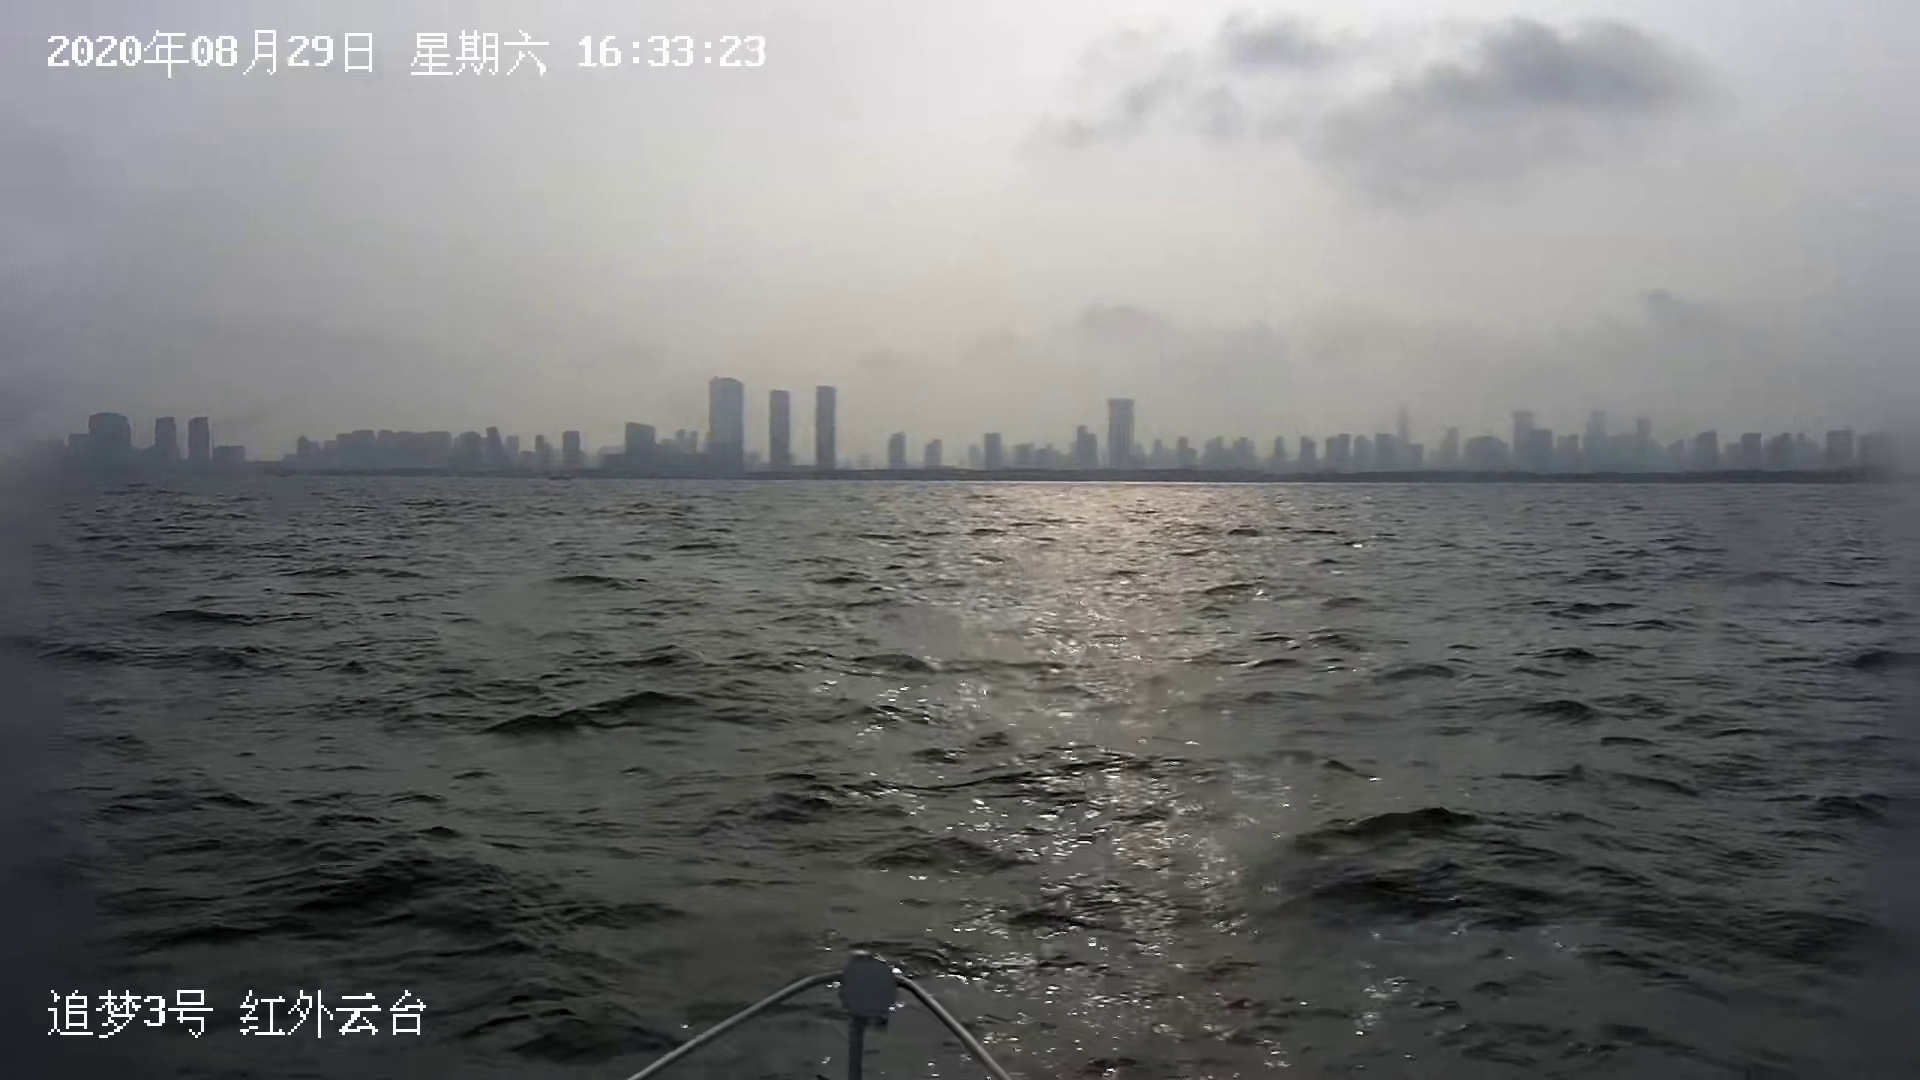coast: (11, 363, 1920, 480)
